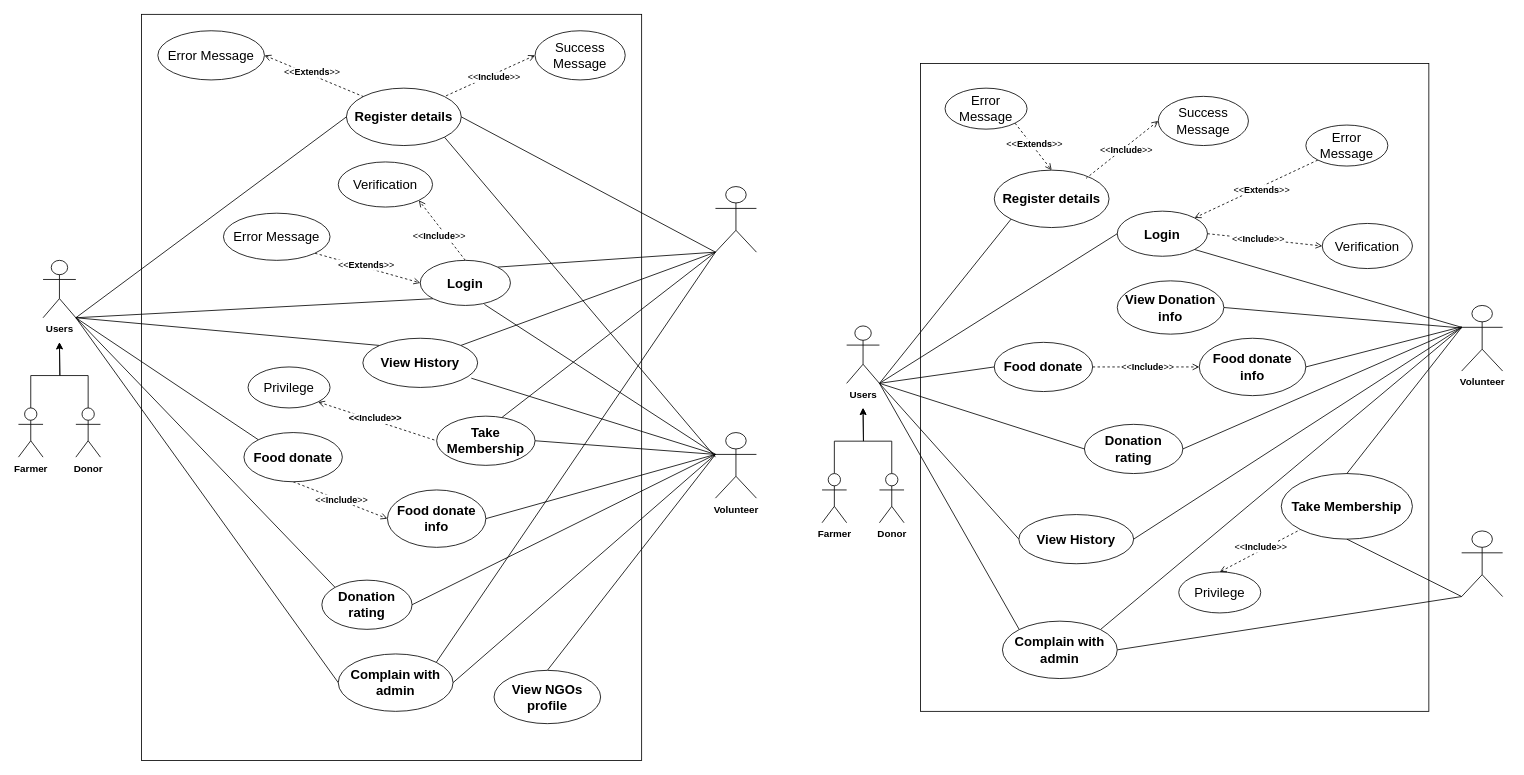
Image size: 1524x775. Some labels were removed from this diagram. The shapes that lost their labels are listed below. From the top down, each one's box as (x1, y1, x2, y2) in pixels, then its label:
(715, 186, 756, 252): Admin NGO
(1461, 530, 1503, 597): NGO Admin
